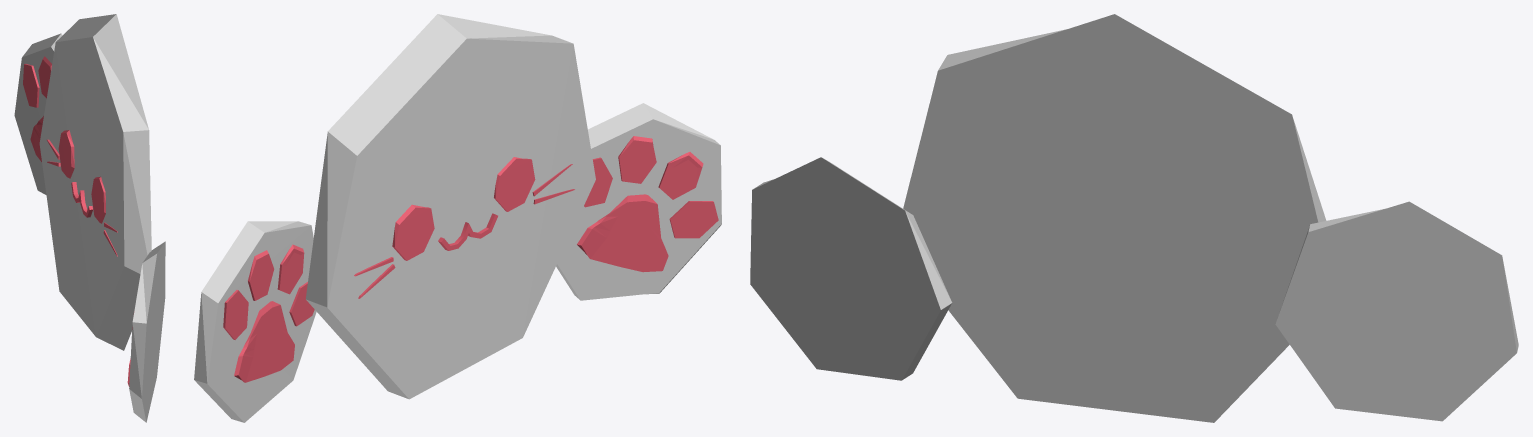
The model's file is catPillowpink.FBX.
3 renders of one model, left to right at view 1: azimuth 30°, elevation 25°; view 2: azimuth 150°, elevation 25°; view 3: azimuth 270°, elevation 25°, orthographic. The views are drawn at different scales.
Parts seen in each view (by area): view 1: catPillow_pink; view 2: catPillow_pink; view 3: catPillow_pink.
Boxes of the visible parts, x1,y1,x2,y2 form: catPillow_pink: (14,14,165,422); catPillow_pink: (194,14,721,422); catPillow_pink: (750,14,1518,422).
Size of the model in its own units: 17.61 by 28.68 by 48.9.
